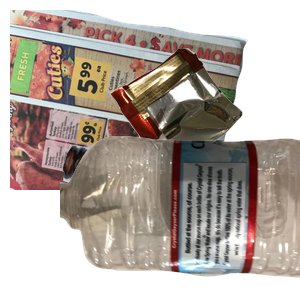glass: (60, 142, 300, 300)
paper: (10, 10, 250, 190)
plastic: (60, 134, 300, 300)
trash: (107, 46, 300, 198)
